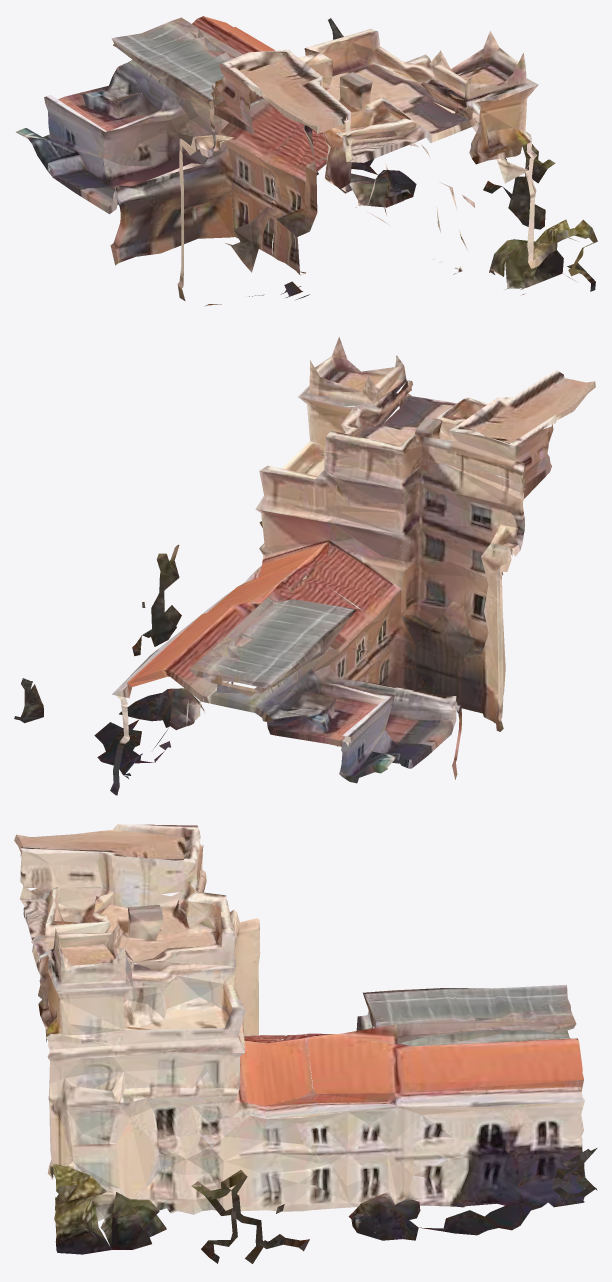
3 views of the same model, one above another, from view 1: azimuth 30°, elevation 25°; view 2: azimuth 150°, elevation 25°; view 3: azimuth 270°, elevation 25° (orthographic). The views are drawn at different scales.
Visible parts, largest first — view 1: Mesh_0; view 2: Mesh_0; view 3: Mesh_0.
Boxes of the visible parts, x1,y1,x2,y2 form: Mesh_0: [16, 16, 597, 306]; Mesh_0: [14, 337, 595, 795]; Mesh_0: [14, 824, 597, 1263].
Size of the model in its own units: 32.45 by 21.66 by 41.59.
Materials: 2 (2 with a texture image).
